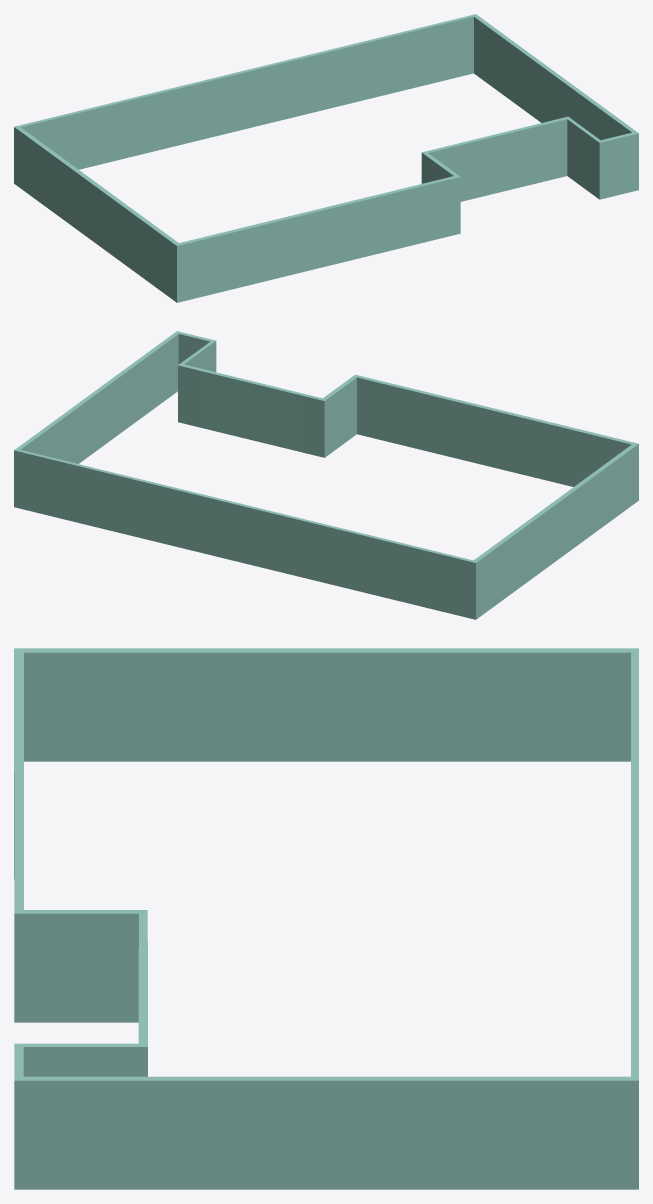
The model's file is GlassOfWealthyMerchantsHouse.fbx.
The picture shows the model from 3 angles, top to bottom: view 1: azimuth 30°, elevation 25°; view 2: azimuth 150°, elevation 25°; view 3: azimuth 270°, elevation 25°; orthographic projection. The views are drawn at different scales.
Parts seen in each view (by area): view 1: Cube.004; view 2: Cube.004; view 3: Cube.004.
Part boxes in pixels (box(x1,y1,x2,y2)): Cube.004: box(14, 14, 638, 302); Cube.004: box(14, 331, 638, 619); Cube.004: box(14, 648, 638, 1189).
Size of the model in its own units: 2310 by 272 by 1412.
